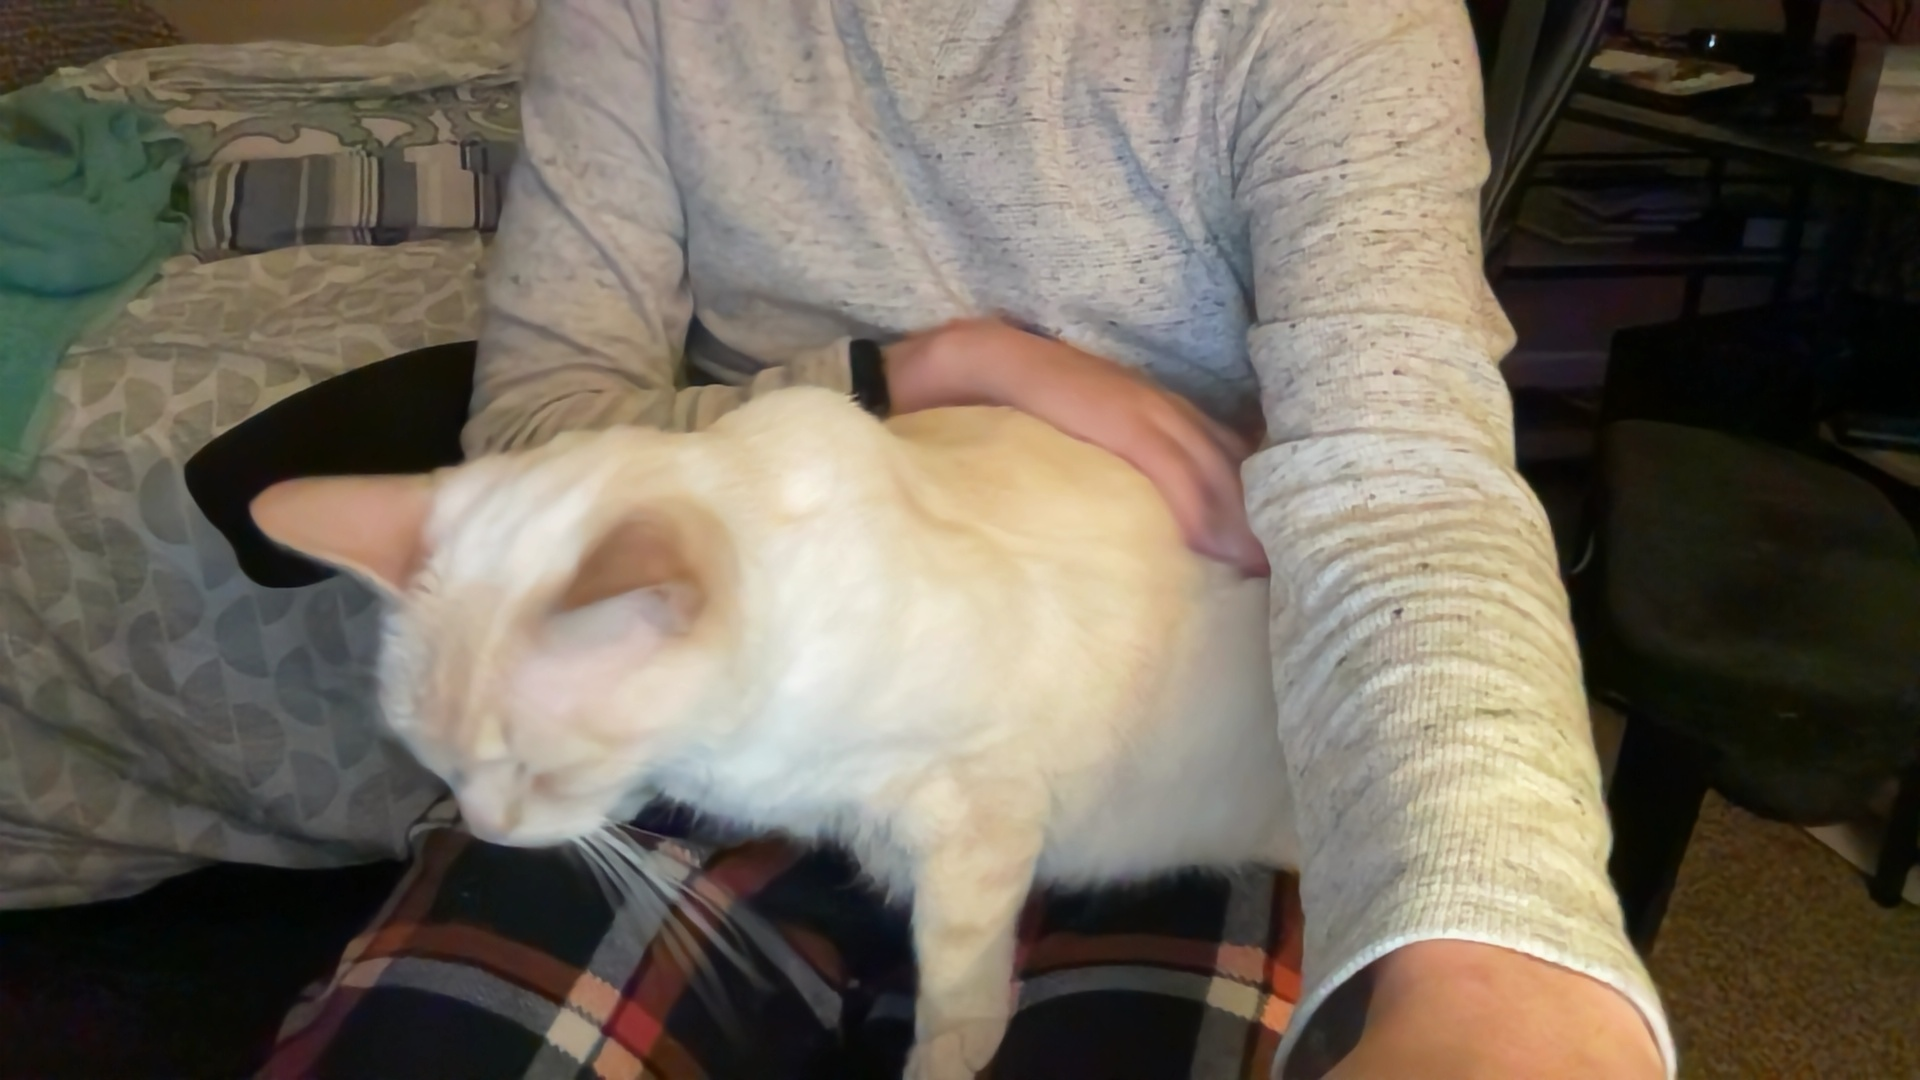cat: (262, 380, 1302, 1076)
